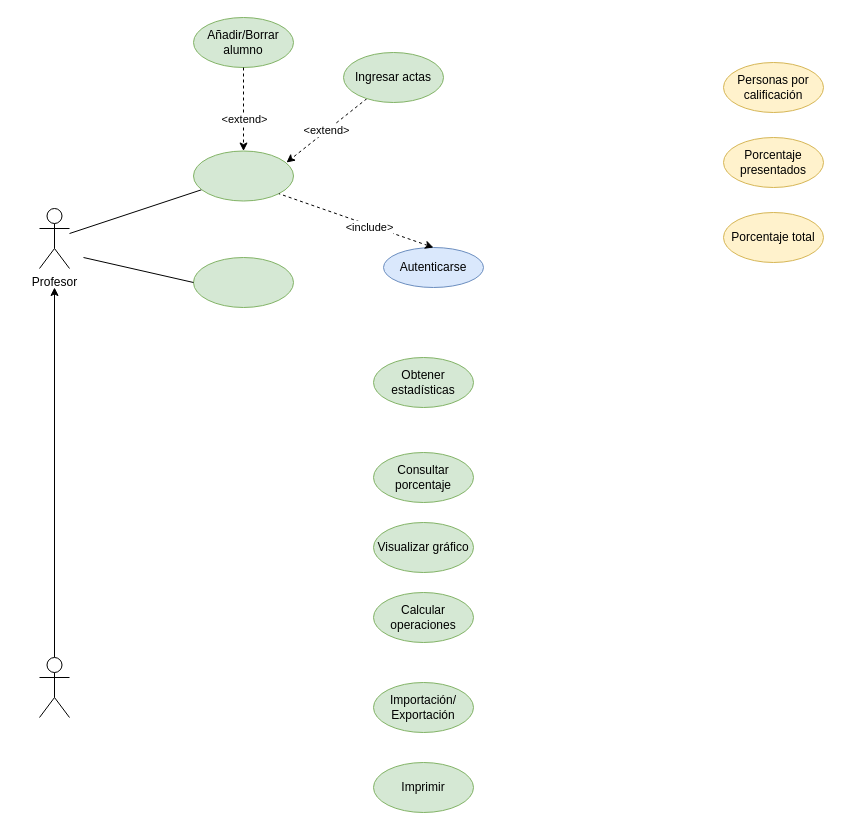
Image size: 841x830. Some labels were removed from this diagram. The centre of each missing label's shape, as x and y in pixels:
Administrador: [54,687]
Completar Acta: [243,175]
Consulta información: [243,282]
